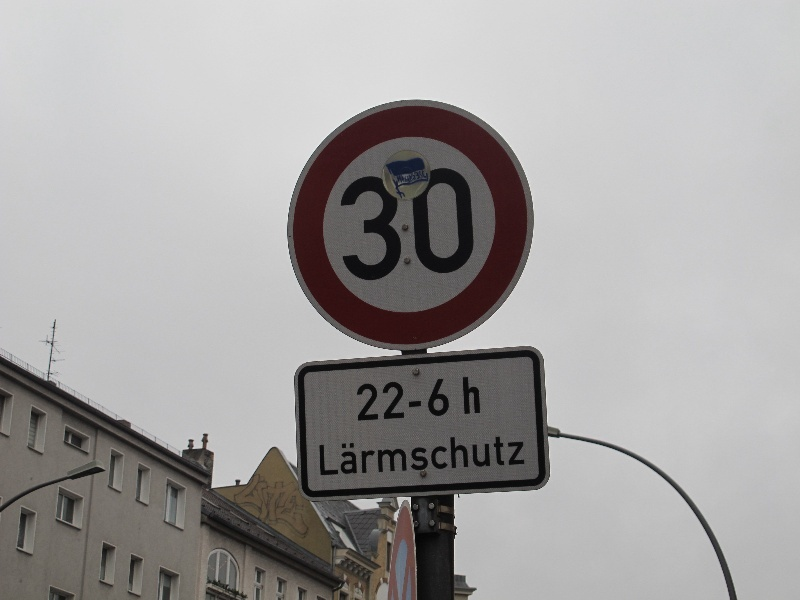text: (353, 165, 368, 284), (369, 165, 384, 284), (385, 165, 400, 284), (401, 165, 416, 284), (417, 165, 432, 284), (433, 165, 448, 284), (449, 165, 464, 284), (340, 165, 352, 284), (465, 165, 476, 284), (257, 474, 272, 547), (273, 474, 288, 547), (289, 474, 304, 547), (369, 380, 384, 422), (385, 380, 400, 422), (401, 380, 416, 422), (417, 380, 432, 422), (433, 380, 448, 422), (321, 434, 336, 476), (337, 434, 352, 476), (353, 434, 368, 476), (369, 434, 384, 476), (385, 434, 400, 476), (401, 434, 416, 476), (417, 434, 432, 476), (433, 434, 448, 476), (449, 434, 464, 476), (465, 434, 480, 476), (481, 434, 496, 476), (497, 434, 512, 476), (465, 376, 480, 417), (513, 434, 527, 476), (356, 380, 368, 422), (252, 474, 256, 547), (305, 474, 308, 547), (401, 174, 417, 187), (417, 171, 427, 181), (449, 380, 450, 422), (463, 376, 464, 417), (481, 376, 482, 417), (397, 174, 400, 187), (415, 171, 416, 181)
